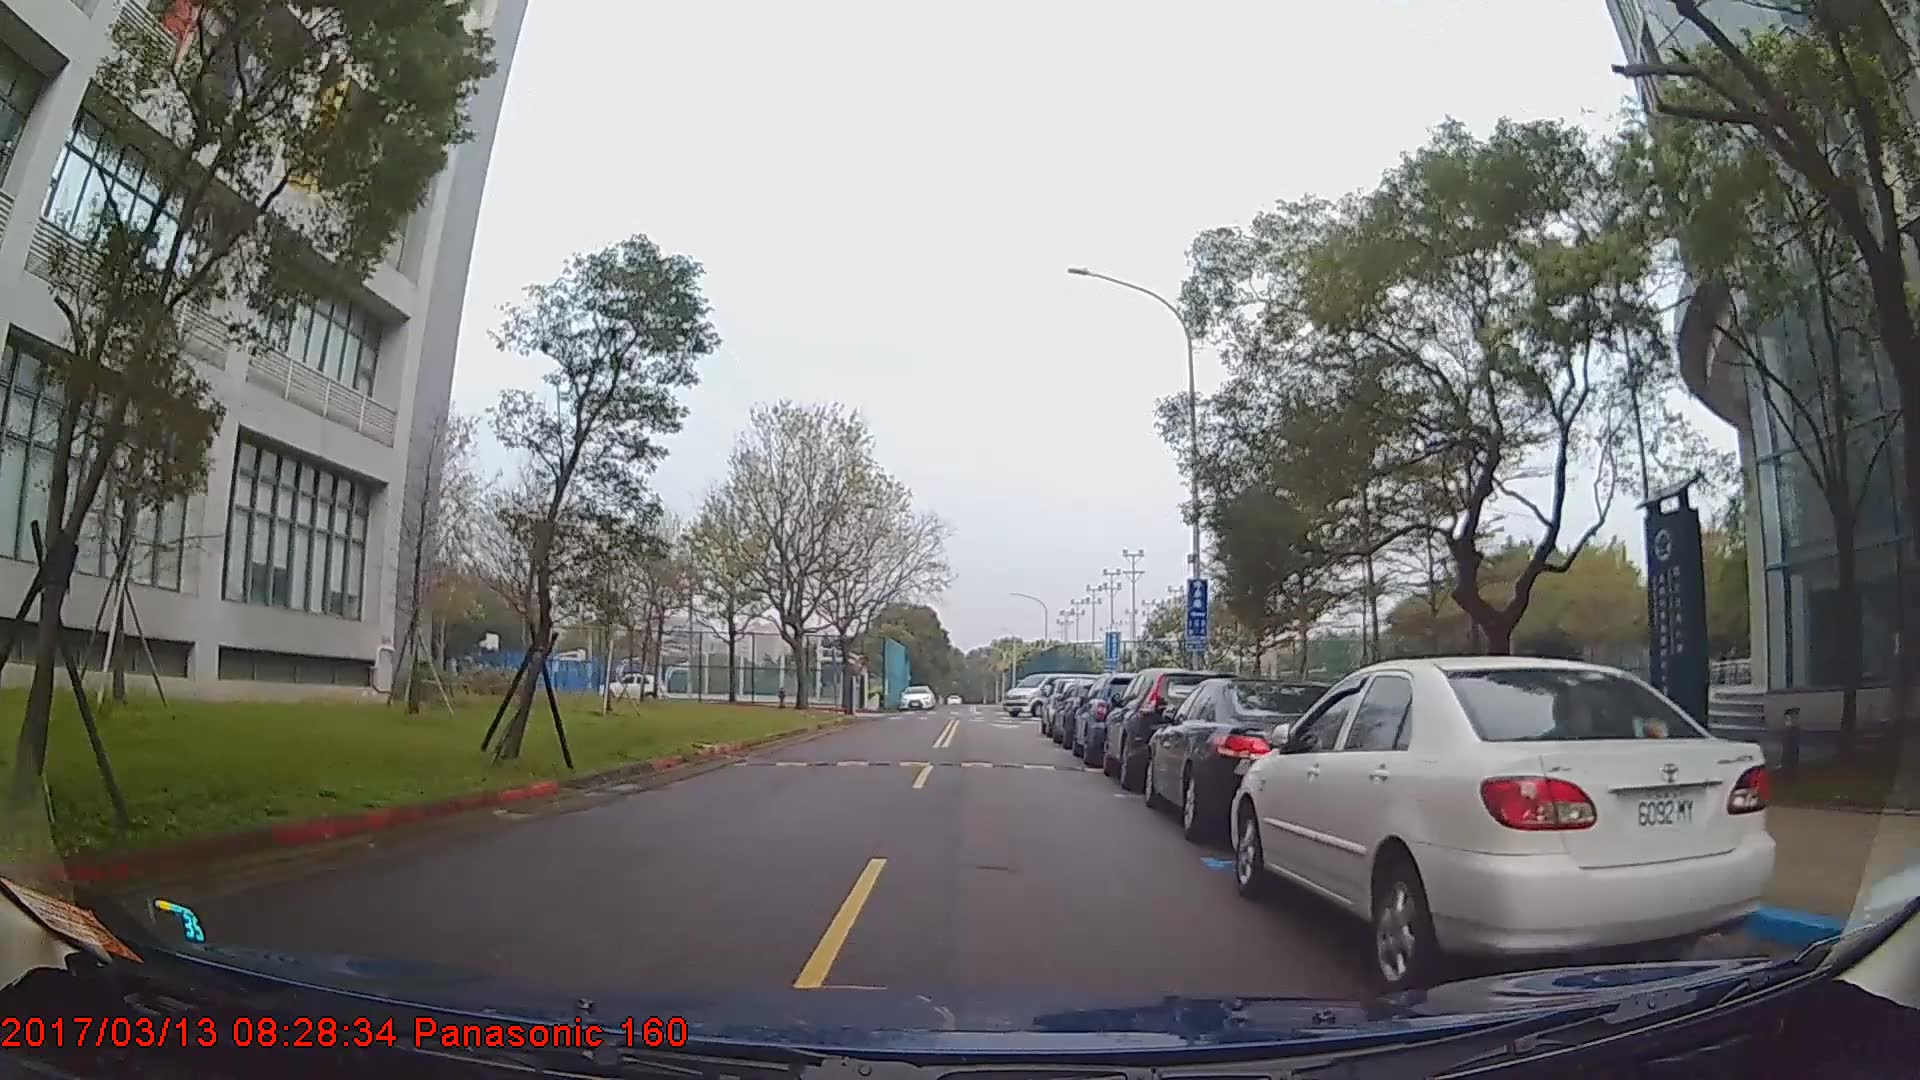vehicle: (1230, 653, 1782, 990), (1147, 673, 1364, 840), (1100, 669, 1240, 793), (1071, 673, 1160, 767), (1004, 671, 1110, 717), (596, 670, 666, 699), (899, 683, 935, 708)
